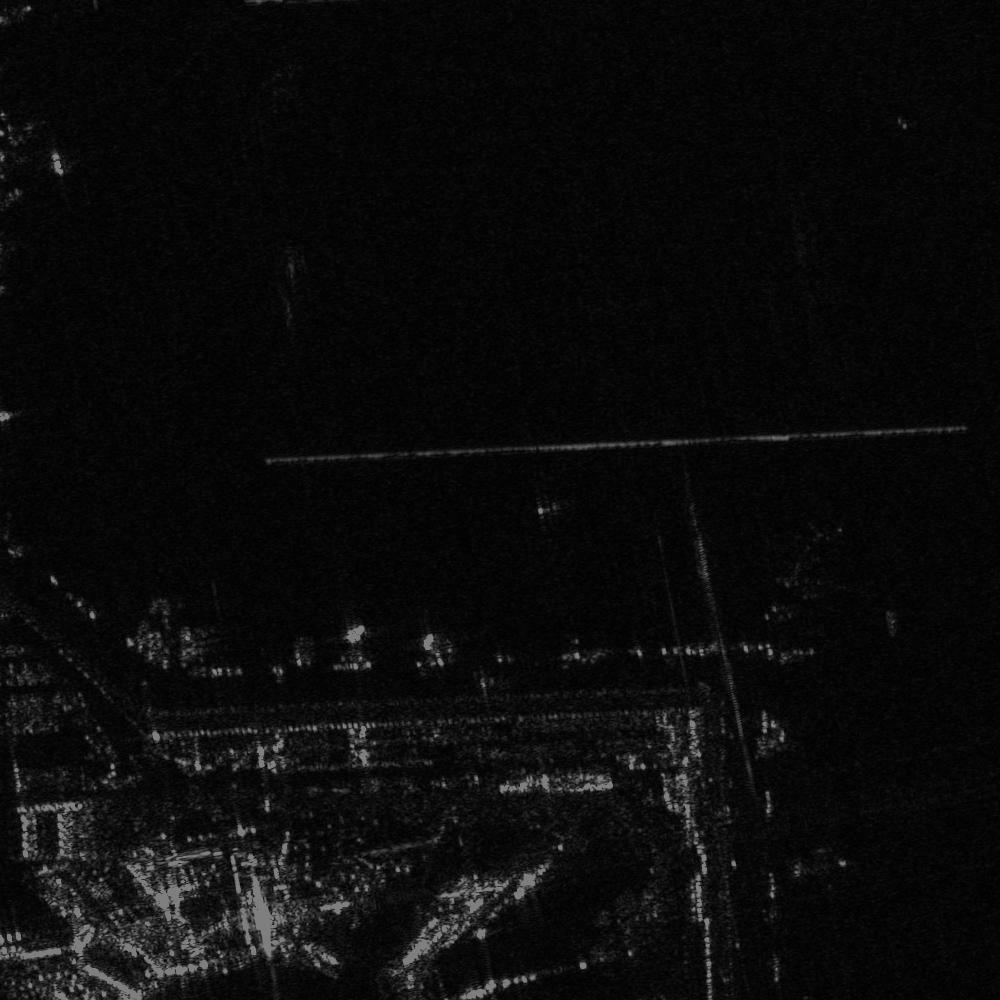A220: (779, 828, 857, 892)
